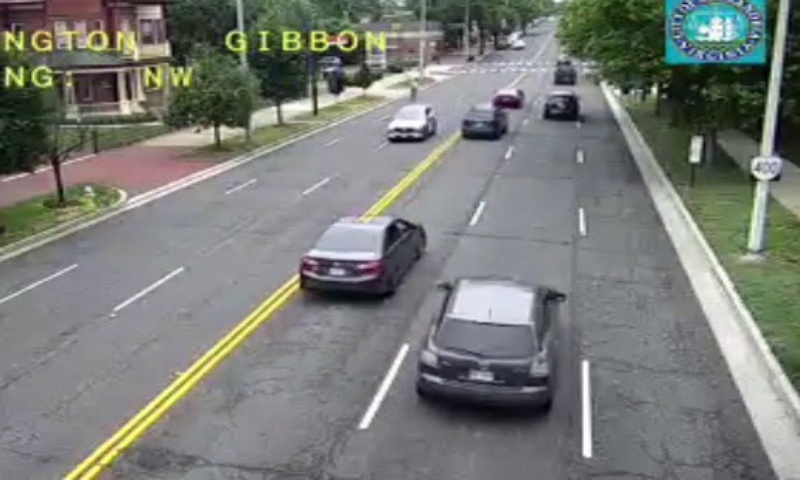car: (417, 277, 554, 407), (298, 216, 424, 292), (460, 105, 504, 134), (541, 94, 578, 119), (490, 89, 521, 108)
